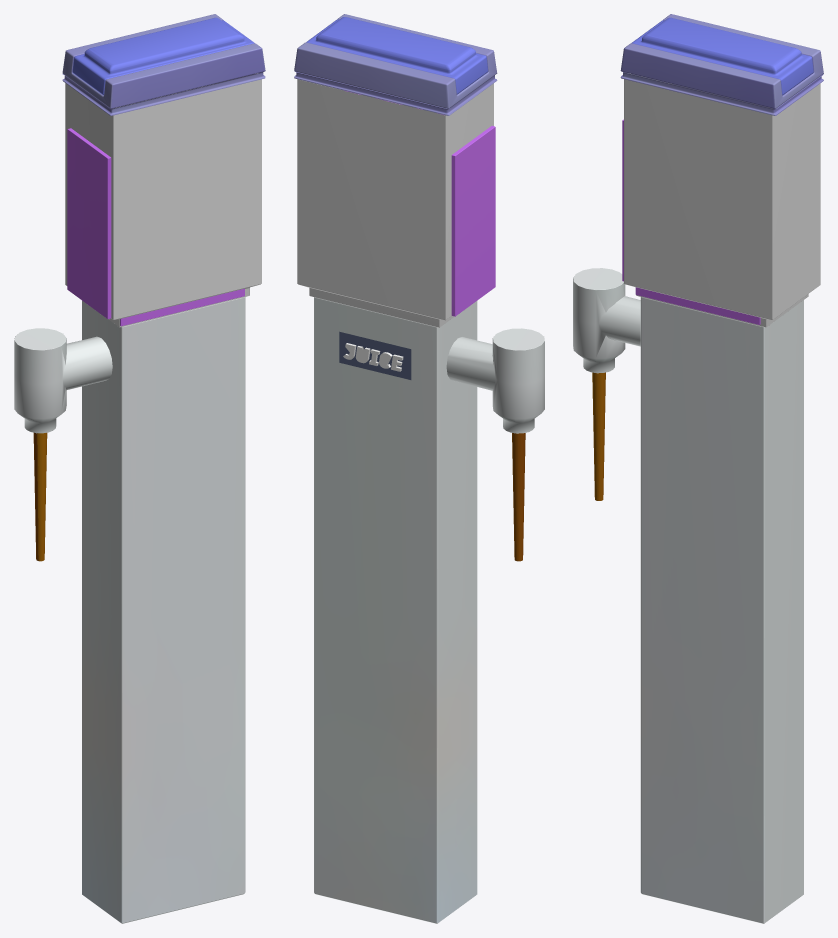
The model's file is LastFruitmachine (2).fbx.
3 renders of one model, left to right at view 1: azimuth 30°, elevation 25°; view 2: azimuth 150°, elevation 25°; view 3: azimuth 330°, elevation 25°, orthographic.
Visible parts, largest first — view 1: Cube.015, Cube.024_Plate.004, Cube.024_Plate.005, Cube.014, Cylinder.056, Cube.013, Cylinder.057; view 2: Cube.015, Cube.024_Plate.004, Cube.014, Cube.024_Plate.005, Cylinder.056, Cube.013, Cube.024_Plate.002, Cylinder.057, Text.001; view 3: Cube.015, Cube.024_Plate.004, Cube.014, Cube.013, Cylinder.056, Cylinder.057, Cube.024_Plate.005.
Part boxes in pixels (left/top/right/bottom): Cube.015: left=82, top=297, right=245, bottom=923; Cube.024_Plate.004: left=65, top=76, right=261, bottom=327; Cube.024_Plate.005: left=67, top=128, right=244, bottom=326; Cube.014: left=62, top=14, right=265, bottom=115; Cylinder.056: left=14, top=328, right=112, bottom=433; Cube.013: left=72, top=17, right=254, bottom=95; Cylinder.057: left=33, top=432, right=47, bottom=561; Cube.015: left=314, top=297, right=477, bottom=923; Cube.024_Plate.004: left=297, top=79, right=493, bottom=327; Cube.014: left=294, top=14, right=497, bottom=115; Cube.024_Plate.005: left=344, top=90, right=495, bottom=316; Cylinder.056: left=446, top=328, right=544, bottom=433; Cube.013: left=306, top=17, right=488, bottom=94; Cube.024_Plate.002: left=339, top=331, right=411, bottom=379; Cylinder.057: left=512, top=433, right=525, bottom=561; Text.001: left=343, top=343, right=403, bottom=371; Cube.015: left=640, top=297, right=803, bottom=923; Cube.024_Plate.004: left=624, top=74, right=820, bottom=327; Cube.014: left=620, top=14, right=823, bottom=115; Cube.013: left=631, top=17, right=813, bottom=95; Cylinder.056: left=573, top=268, right=640, bottom=373; Cylinder.057: left=592, top=372, right=605, bottom=500; Cube.024_Plate.005: left=622, top=119, right=760, bottom=324.
Size of the model in its own units: 1837 by 6691 by 693.
